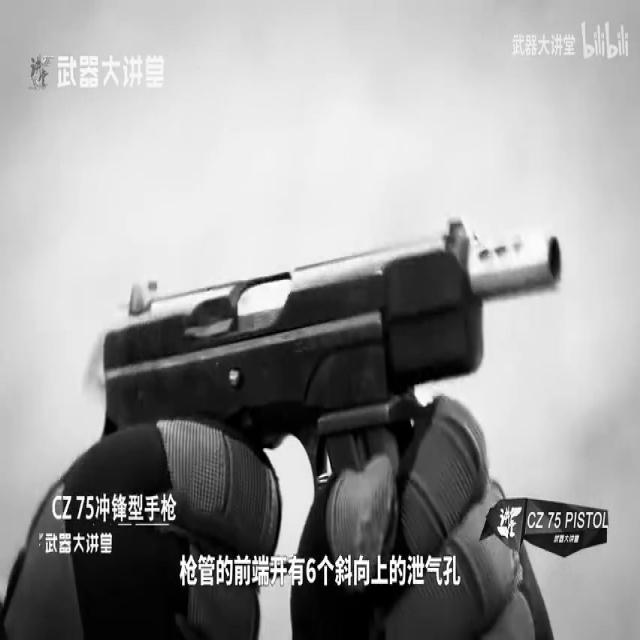Hand-Gun: (54, 163, 596, 640)
